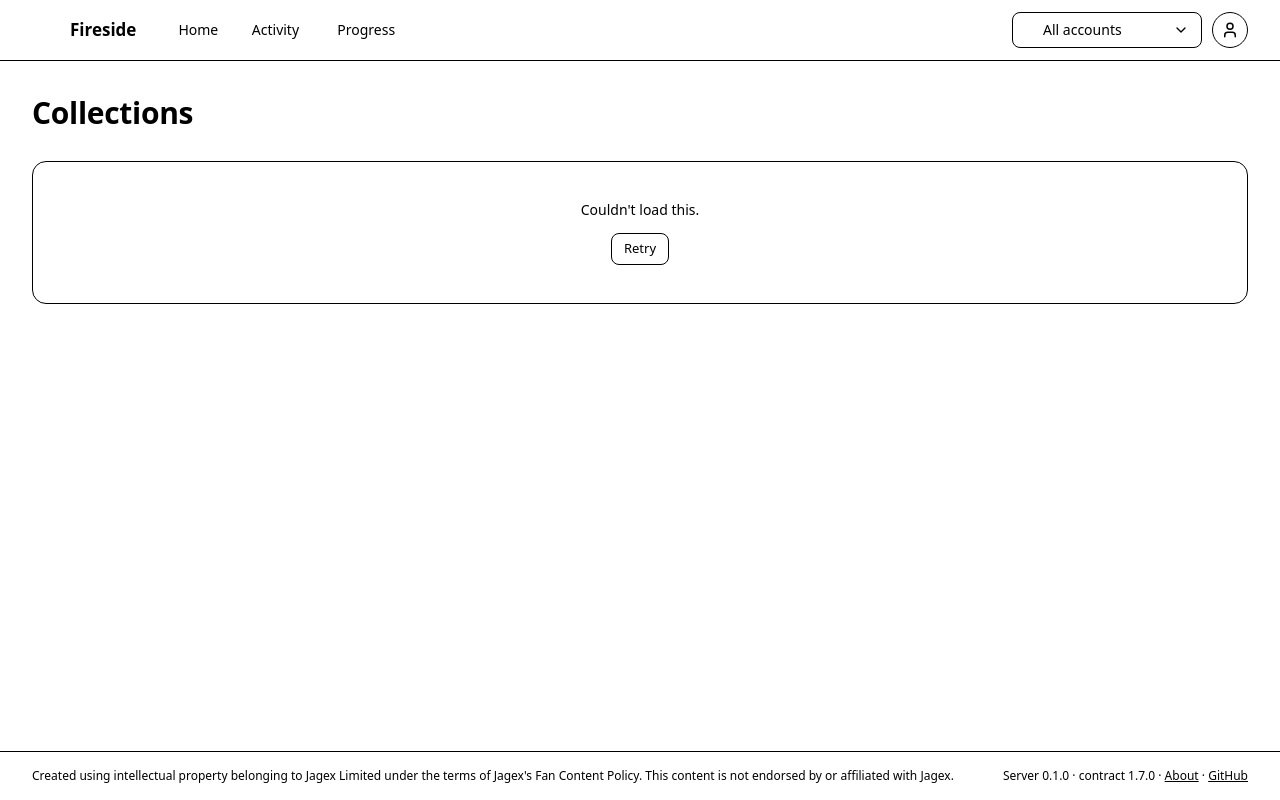
Test: Quests & diaries in the menu › turns the page away after a retry that answers "no data"
Expected: the heading "Not found" is not shown
Step 1. Click the button "Retry" → (640, 249), box [611,233,669,265]
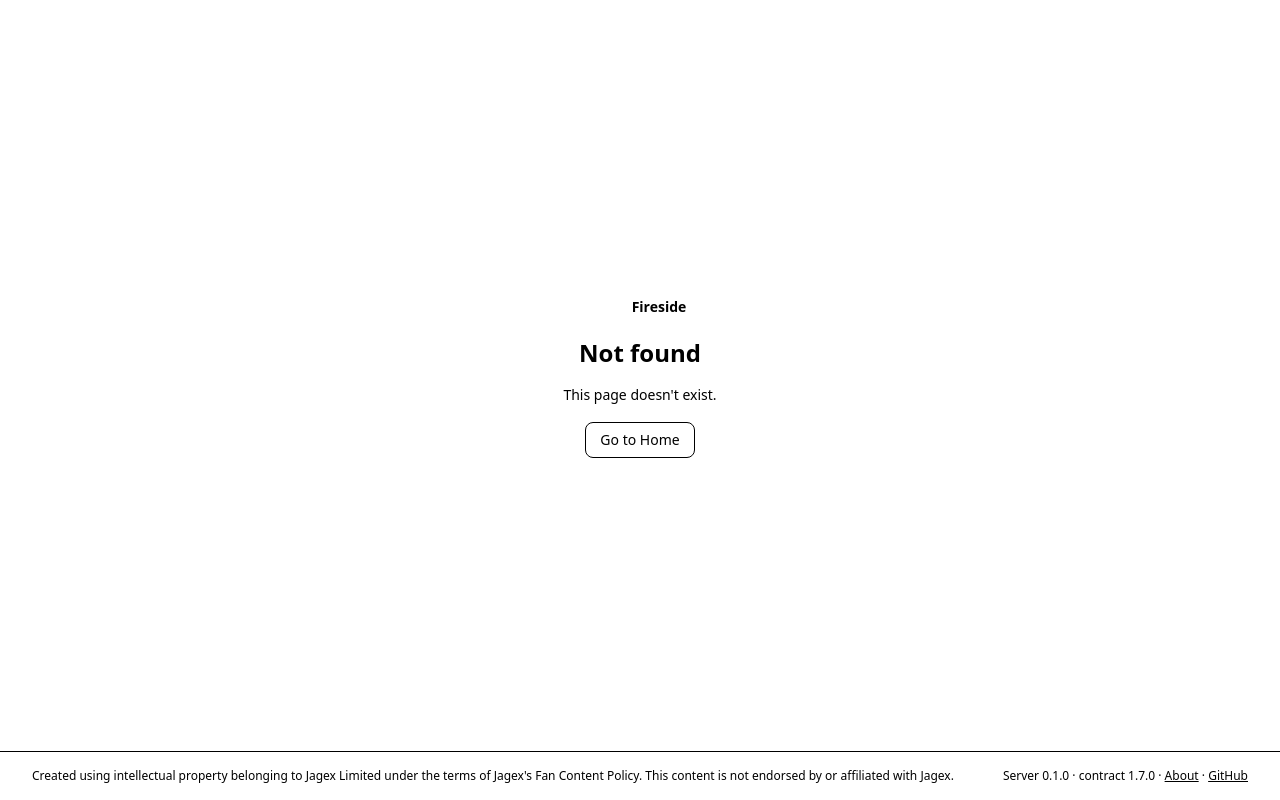
Now the heading "Not found" is shown, box [579,337,701,369]
